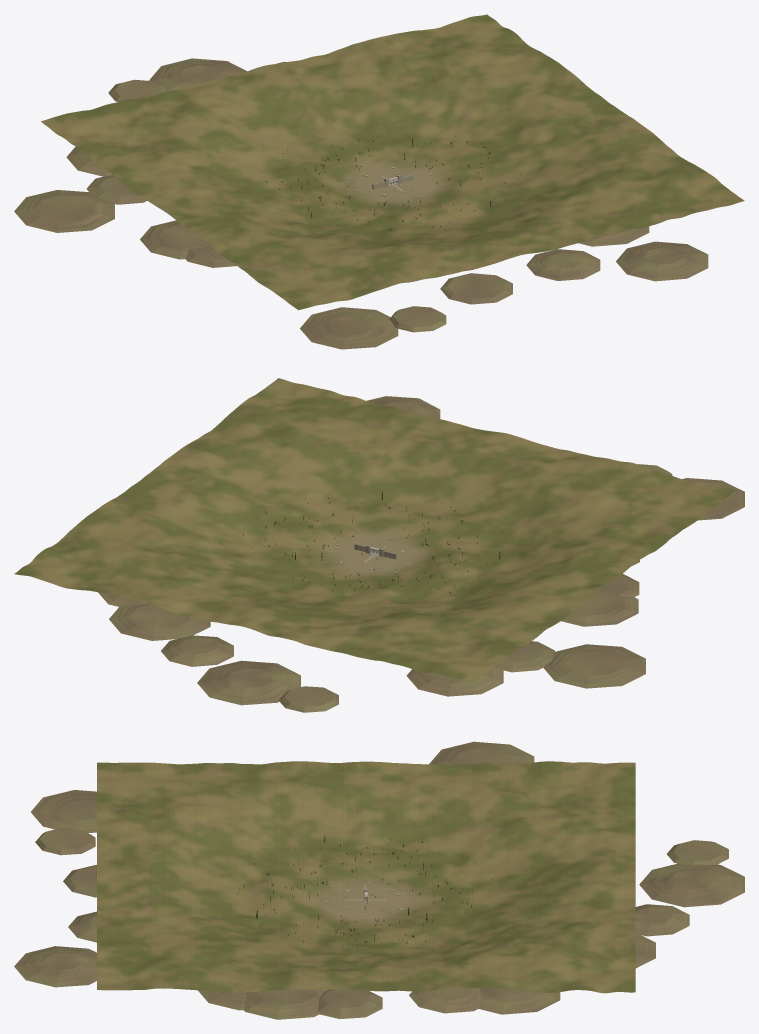
The model's file is antalya-hadrianus-kapisi-baked.glb.
3 renders of one model, top to bottom at view 1: azimuth 30°, elevation 25°; view 2: azimuth 150°, elevation 25°; view 3: azimuth 270°, elevation 25°, orthographic. The views are drawn at different scales.
Parts seen in each view (by area): view 1: antalya-hadrianus-kapisi-terrain, antalya-hadrianus-kapisi-ground; view 2: antalya-hadrianus-kapisi-terrain, antalya-hadrianus-kapisi-ground; view 3: antalya-hadrianus-kapisi-terrain, antalya-hadrianus-kapisi-ground, antalya-hadrianus-kapisi-flora.
Part boxes in pixels (x1,y1,x2,y2): antalya-hadrianus-kapisi-terrain: (41, 14, 744, 310); antalya-hadrianus-kapisi-ground: (14, 58, 708, 349); antalya-hadrianus-kapisi-terrain: (14, 378, 735, 683); antalya-hadrianus-kapisi-ground: (98, 396, 744, 712); antalya-hadrianus-kapisi-terrain: (97, 761, 635, 993); antalya-hadrianus-kapisi-ground: (14, 741, 744, 1019); antalya-hadrianus-kapisi-flora: (221, 815, 539, 946).
Size of the model in its own units: 1148 by 56.25 by 1275.
Materials: 22 (16 with a texture image).
